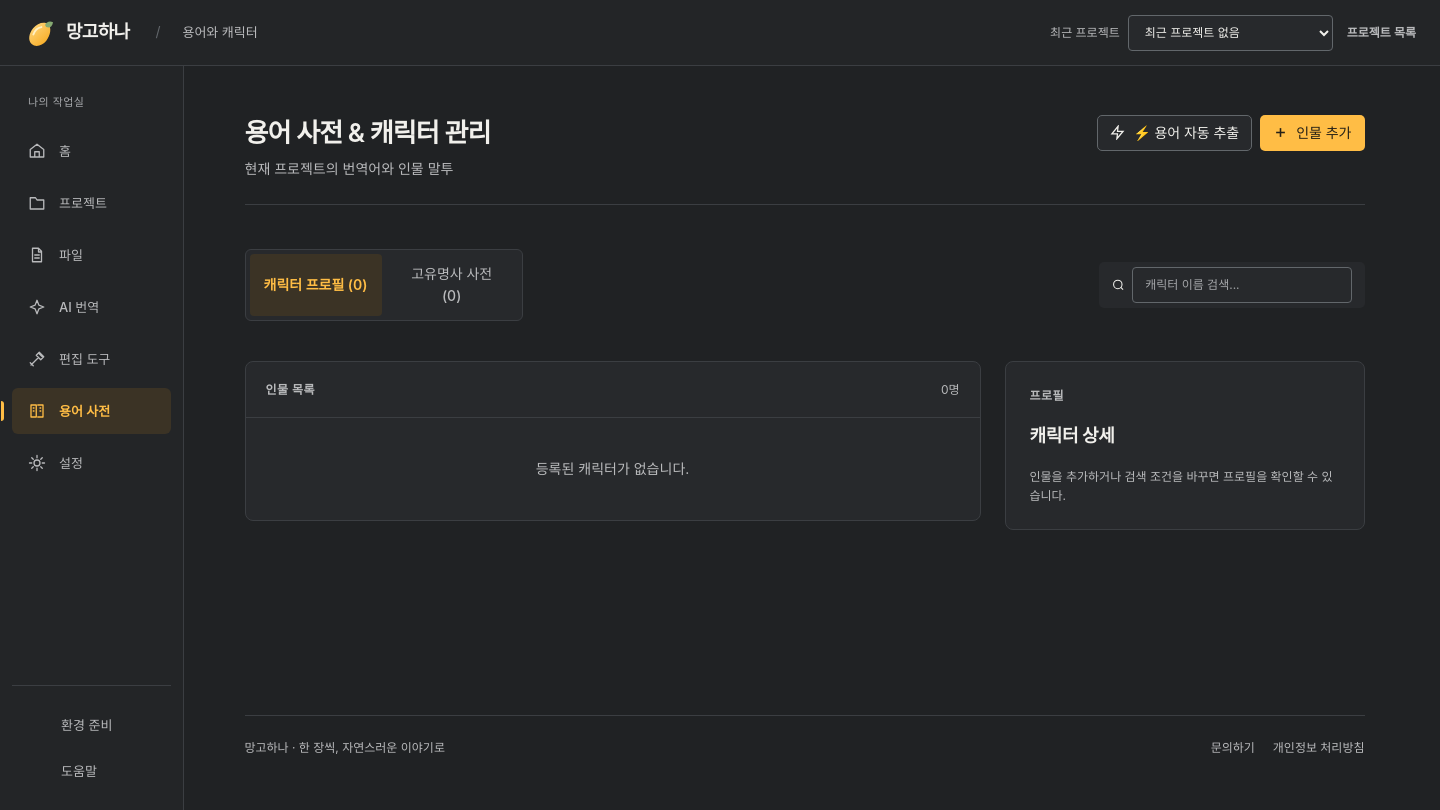
Test: DictionaryPage › distinguishes empty records from filtered results in both master/detail tabs
The image size is (1440, 810).
Check: the list item "등록된 캐릭터가 없습니다." is shown, box [536,460,689,477]
In the field named "용어 및 인물 검색": (1242, 285) [1132,267,1352,303], type "찾을 이름"
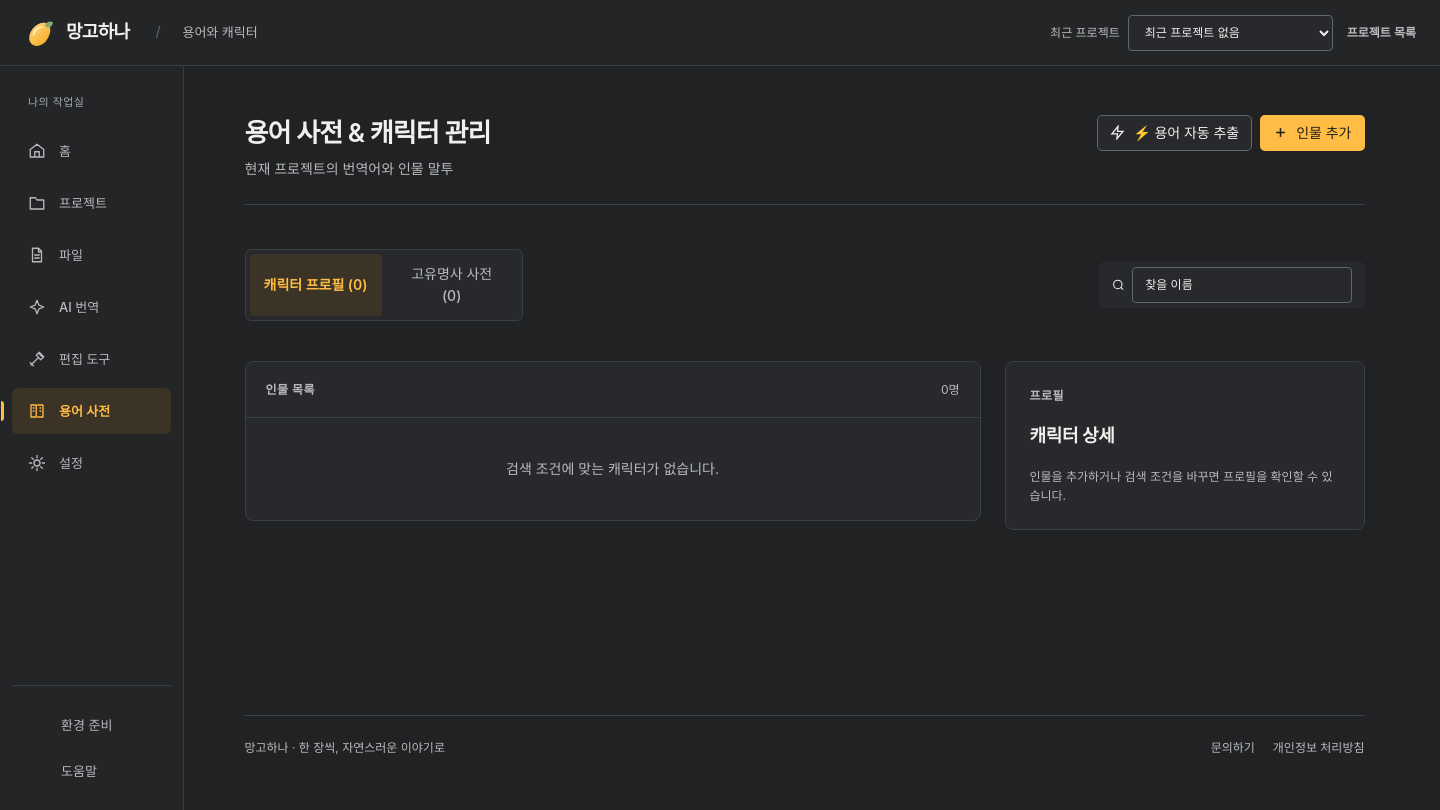
Check: the list item "검색 조건에 맞는 캐릭터가 없습니다." is shown, box [506,460,719,477]
Click the tab "고유명사 사전 (0)": (452, 285) [386,254,518,316]
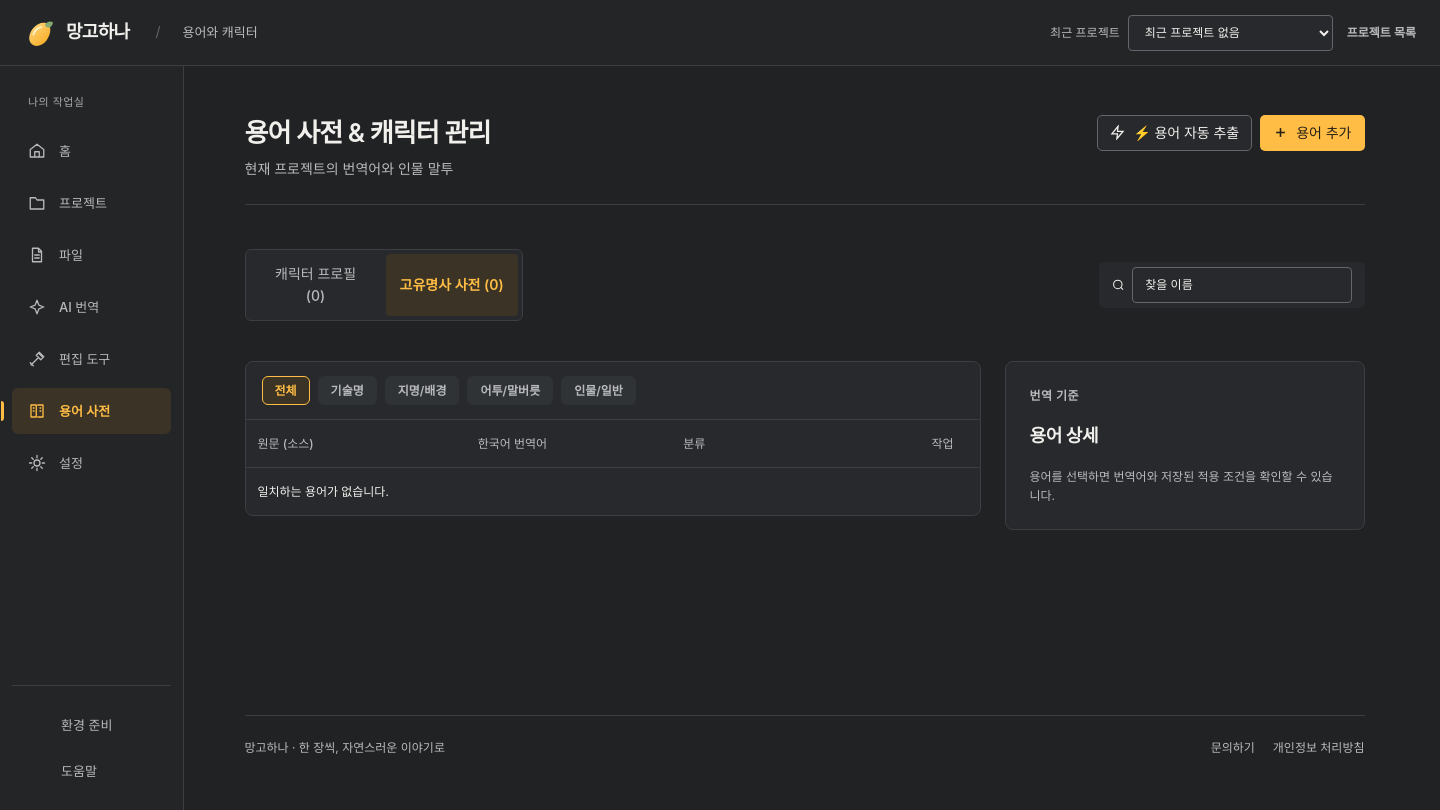
Check: the text "일치하는 용어가 없습니다." is shown, box [246,467,980,515]
Clear the field named "용어 및 인물 검색": (1242, 285) [1132,267,1352,303]
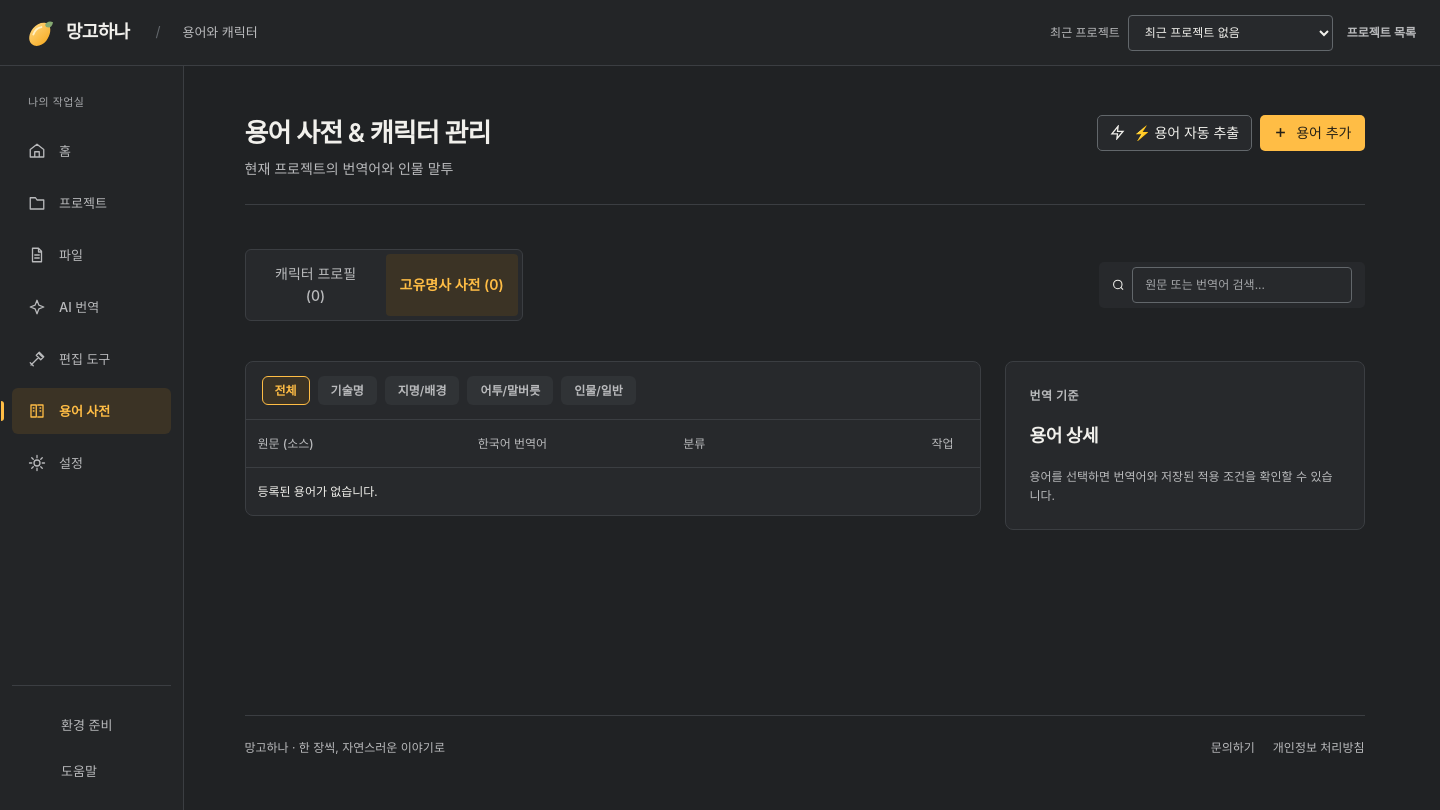
Check: the table named "고유명사 사전" is shown, box [246,420,980,515]
Check: the text "등록된 용어가 없습니다." is shown, box [246,467,980,515]
Click the button "기술명": (347, 390) [318,376,377,405]
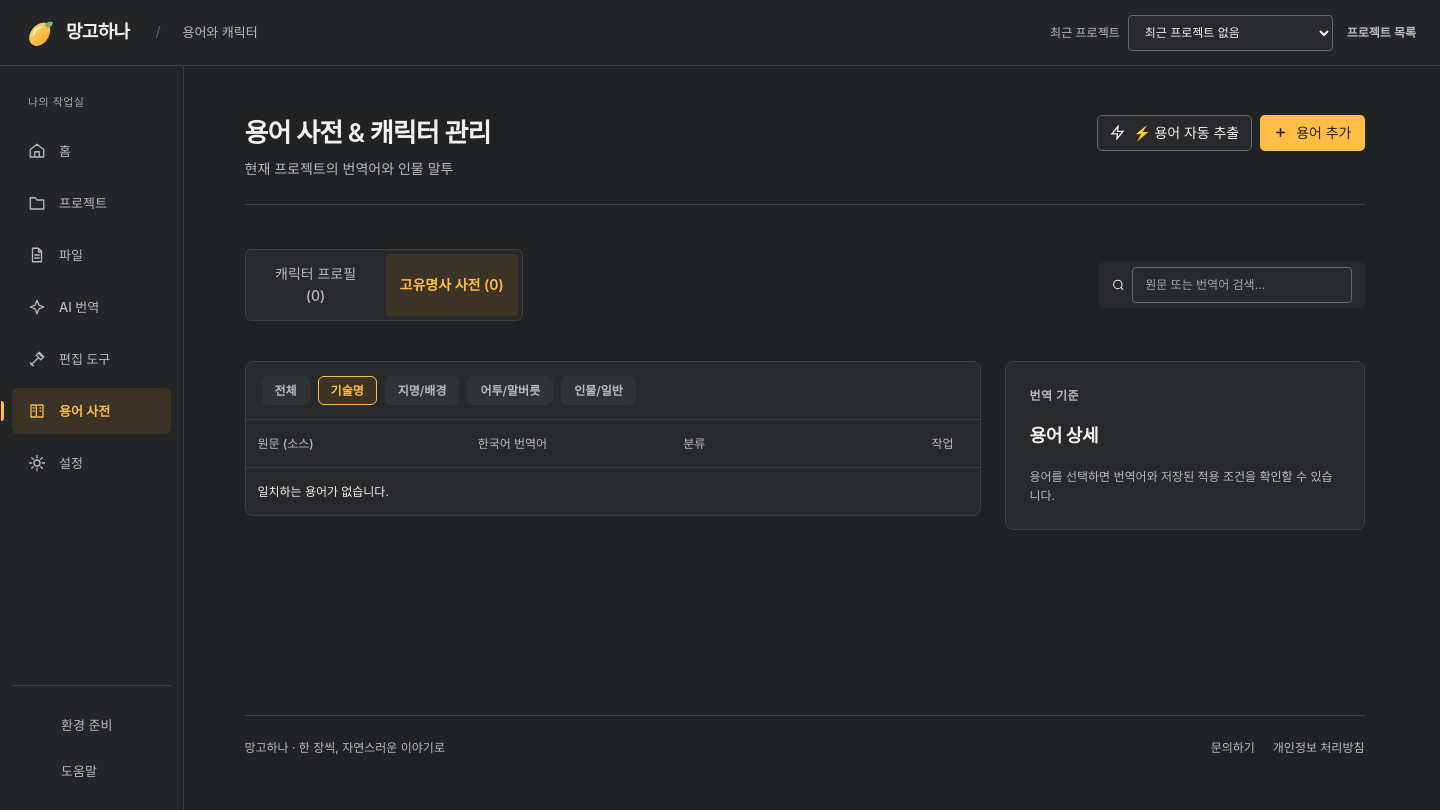
Check: the text "일치하는 용어가 없습니다." is shown, box [246,467,980,515]
